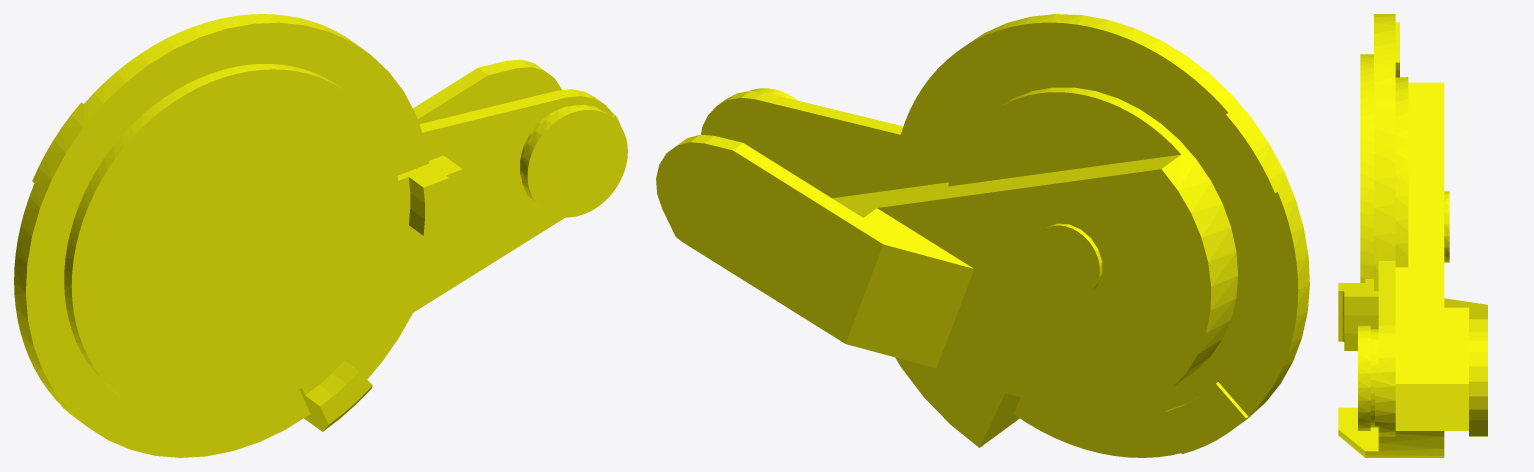
3 views of the same model, side by side, from view 1: azimuth 30°, elevation 25°; view 2: azimuth 150°, elevation 25°; view 3: azimuth 270°, elevation 25° (orthographic). The views are drawn at different scales.
Visible parts, largest first — view 1: node; view 2: node; view 3: node.
Boxes of the visible parts, bbox=[...] form: node: bbox=[14, 14, 627, 457]; node: bbox=[656, 14, 1309, 457]; node: bbox=[1338, 14, 1487, 457].
Size of the model in its own units: 703 by 476 by 202.
